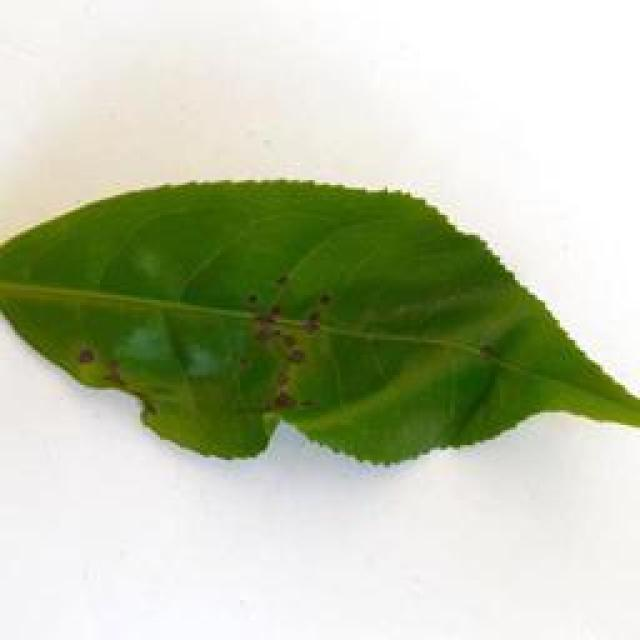Helopeltis: (2, 164, 640, 465)
